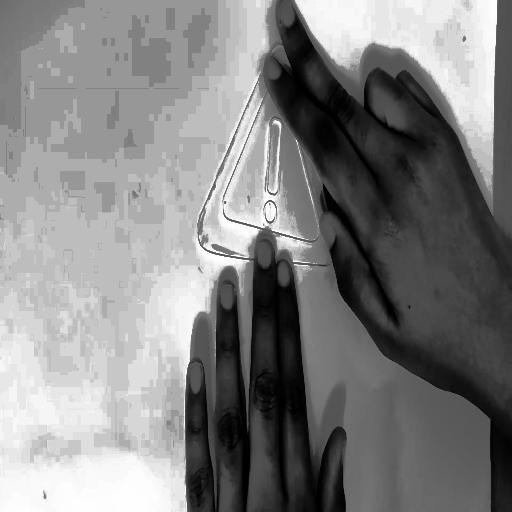signboard: (177, 27, 367, 491)
